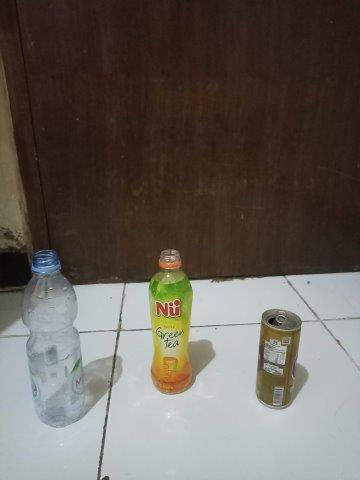botolplastik: (21, 249, 86, 429), (148, 248, 193, 396)
kaleng: (255, 308, 303, 410)
